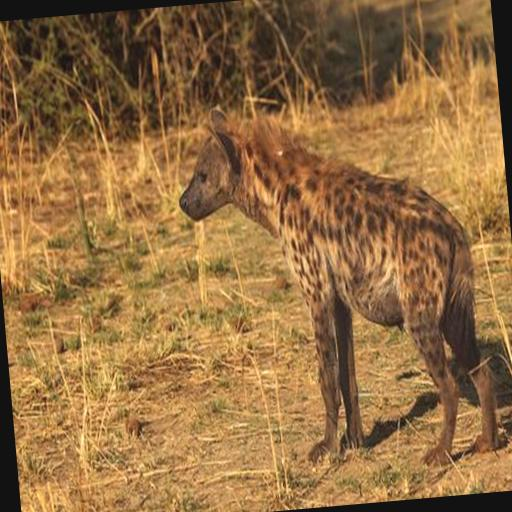hyenas: (178, 62, 512, 484)
